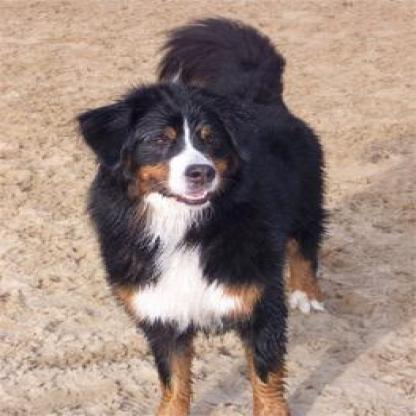Bernese_mountain_dog: (76, 15, 324, 414)
